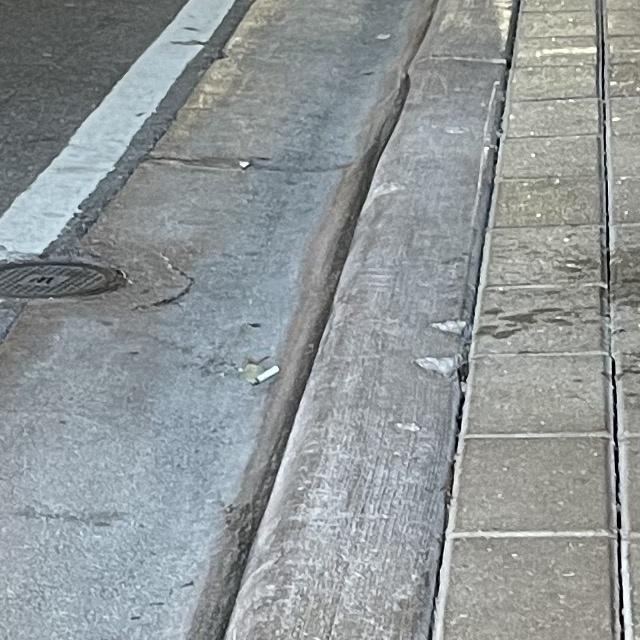curb: (226, 0, 512, 639)
